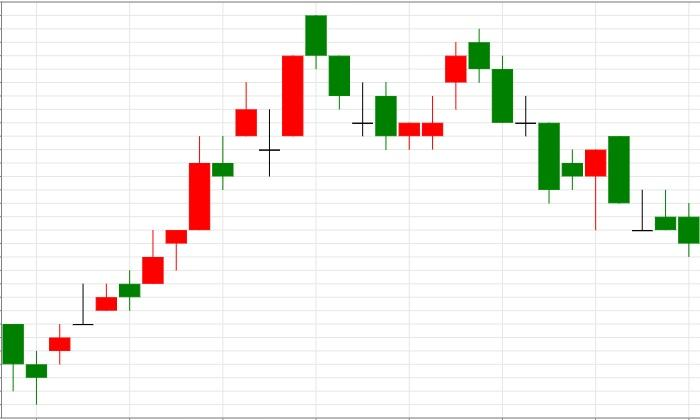hammer_rise: (469, 28, 606, 229)
